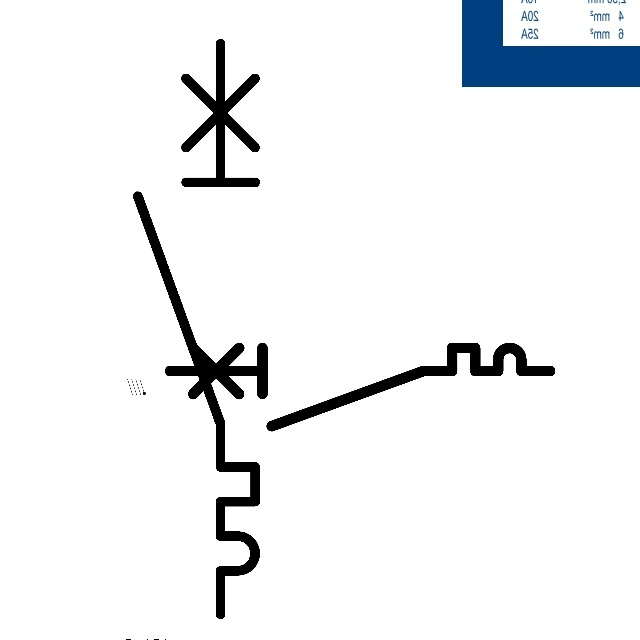interruptor_termomagnetico: (123, 29, 270, 629), (160, 338, 560, 436)
